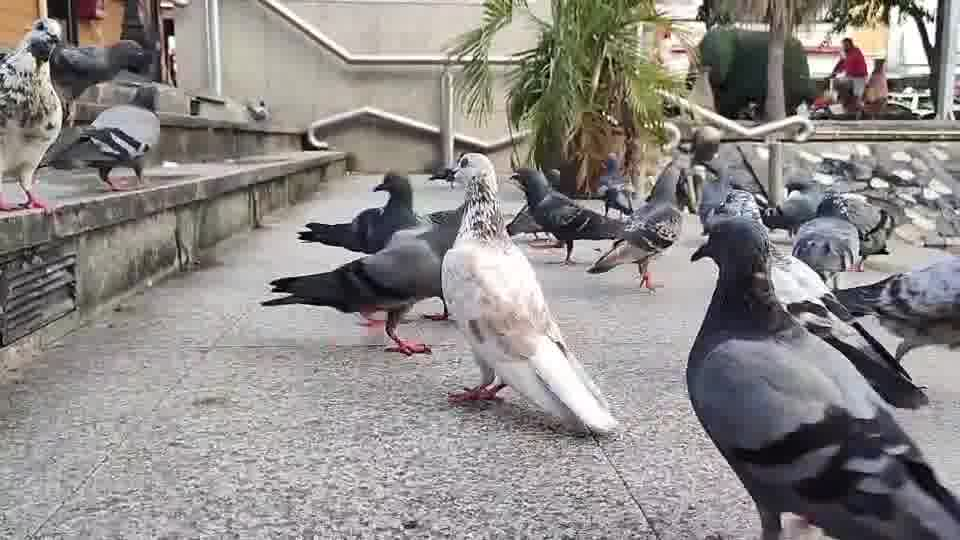Pigeon: (684, 212, 958, 538), (695, 177, 930, 410), (437, 154, 620, 439), (259, 201, 466, 357), (831, 253, 959, 365), (584, 160, 688, 294), (36, 84, 162, 192), (0, 15, 65, 211), (506, 166, 630, 266), (295, 171, 420, 255), (48, 37, 158, 124)
